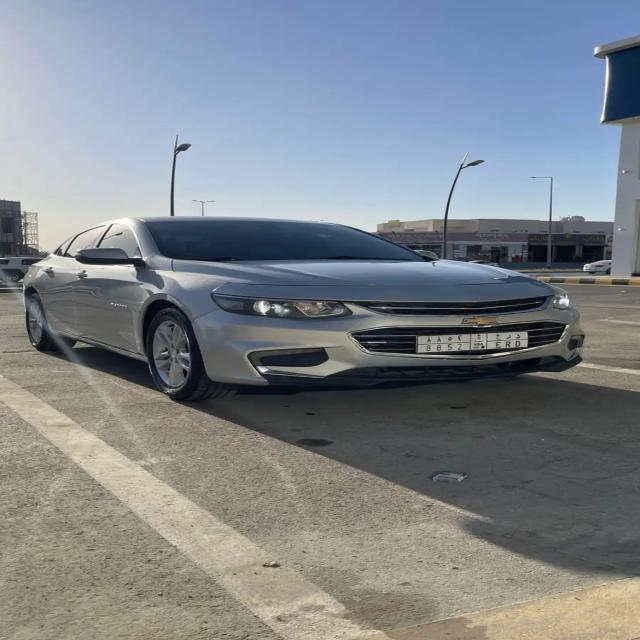license_plate: (416, 330, 530, 350)
